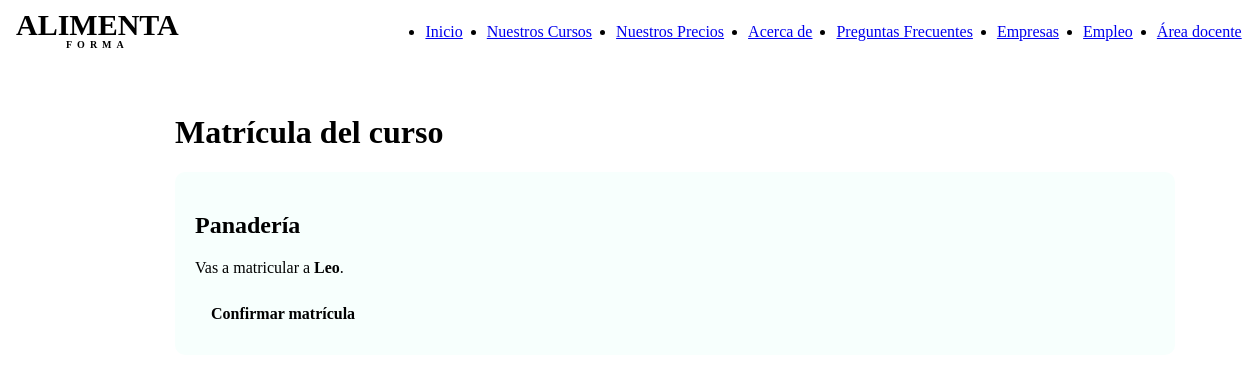
it: recorridos del alumno › permite confirmar una matrícula satisfactoria
Click the button "Confirmar matrícula" at (283, 314), box [195,293,371,335]
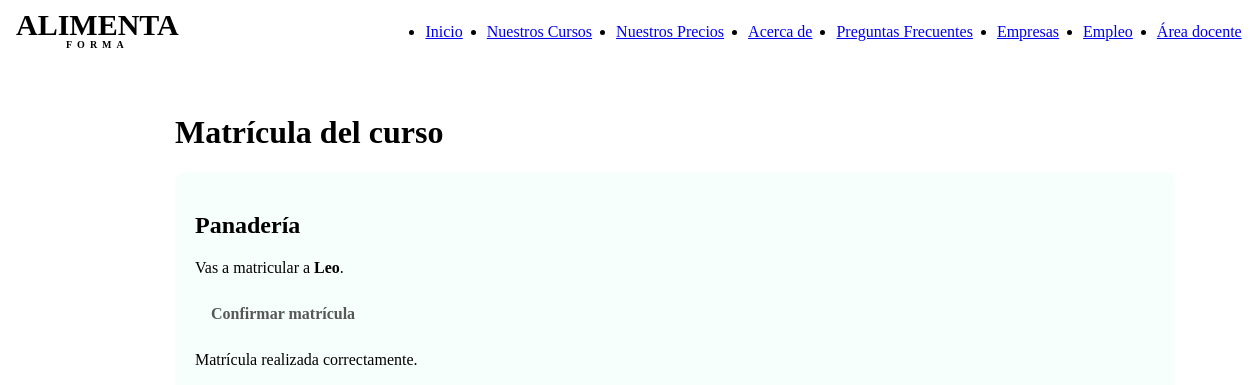
Now the message shows "Matrícula realizada correctamente", box [195,351,418,368]
